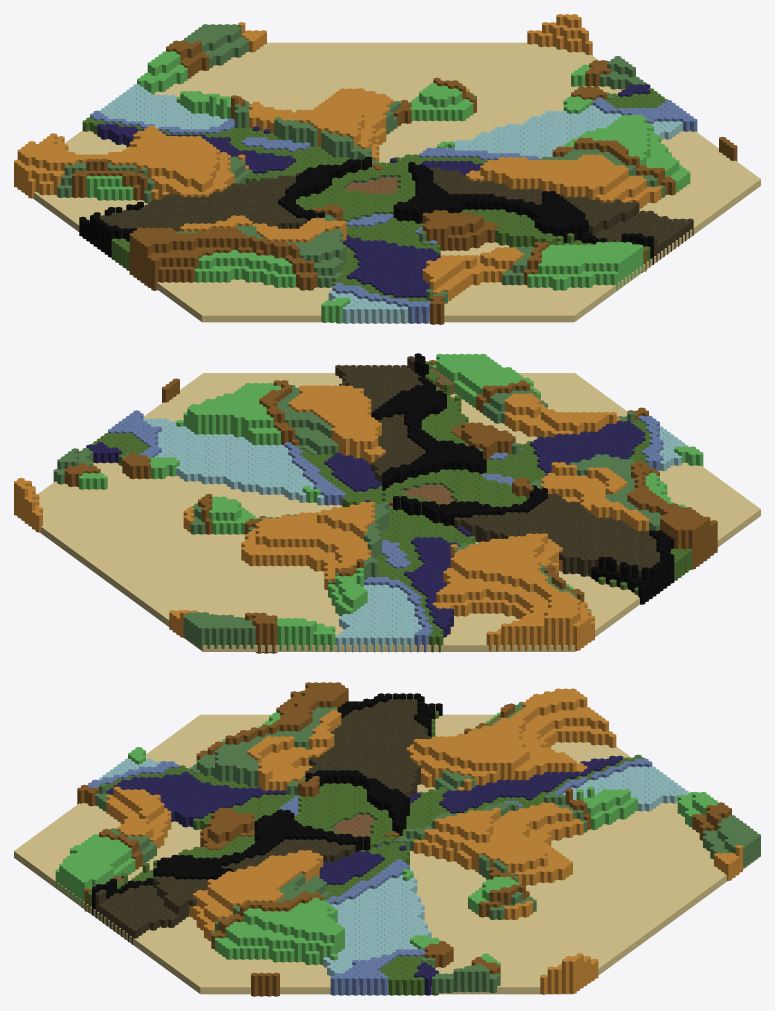
Rendered from 0007_tile_1010201.fbx.
3 renders of one model, top to bottom at view 1: azimuth 30°, elevation 25°; view 2: azimuth 150°, elevation 25°; view 3: azimuth 270°, elevation 25°, orthographic.
Visible parts, largest first — view 1: Plane; view 2: Plane; view 3: Plane.
Boxes of the visible parts, left/top/right/bottom form: Plane: left=14, top=14, right=760, bottom=324; Plane: left=14, top=353, right=760, bottom=653; Plane: left=14, top=682, right=760, bottom=996.
Size of the model in its own units: 1008 by 66.7 by 1152.
